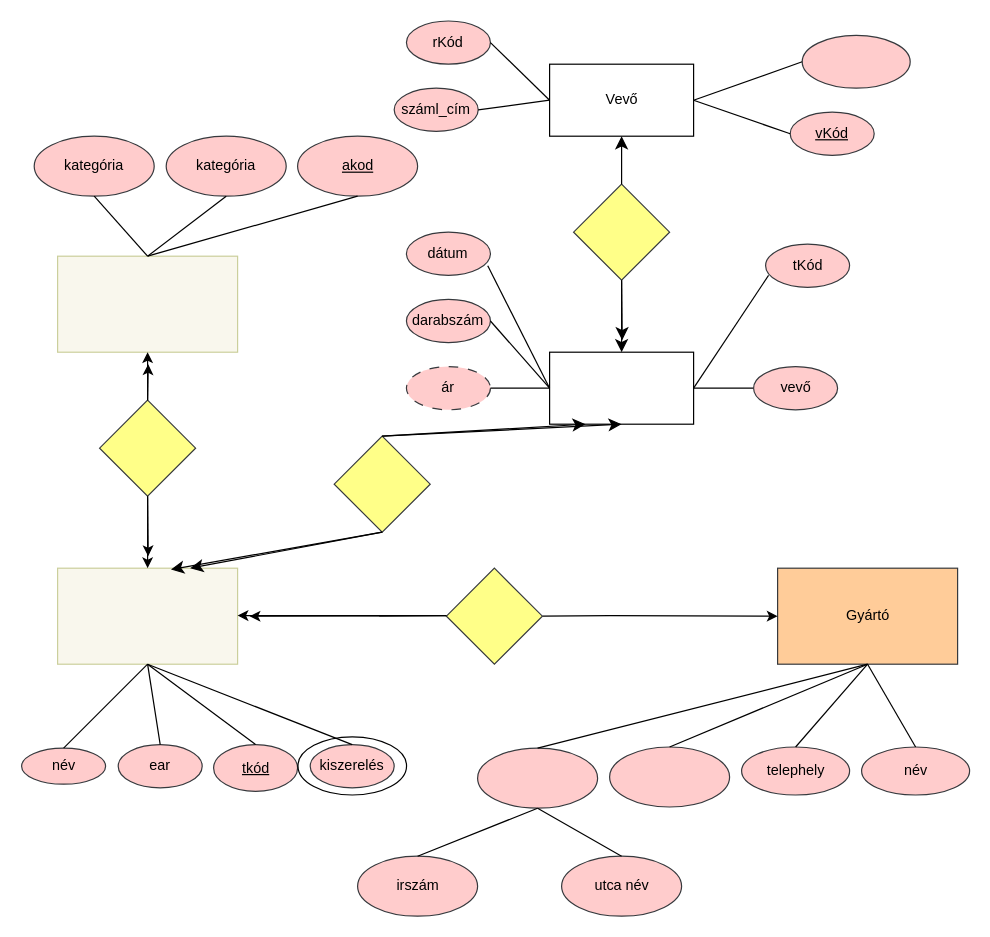
Some shapes in this 990 by 937 pixel diagram are drawn without their labels. Each missing label, with the centre of its shape:
"adószám" belongs at point (669, 776).
"Alkatrész" belongs at point (147, 303).
"postai cím" belongs at point (537, 777).
"Rendelés" belongs at point (621, 387).
"szállítási_cím" belongs at point (855, 61).
"Termék" belongs at point (147, 615).
